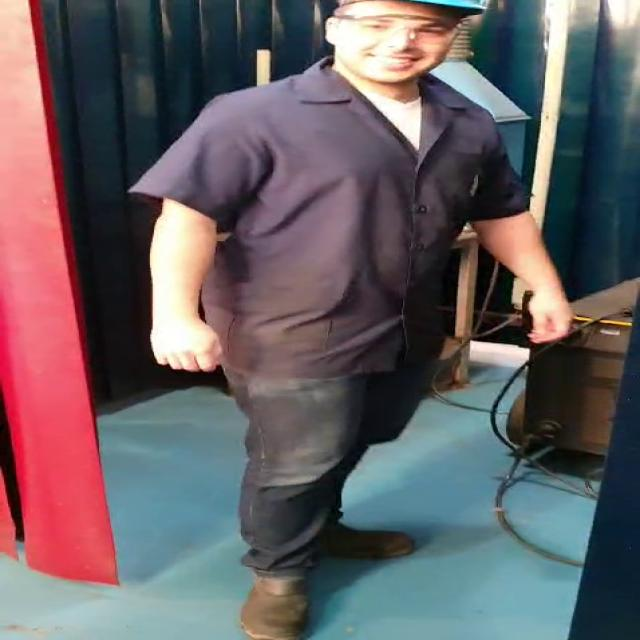oculos-epi: (333, 15, 459, 46)
